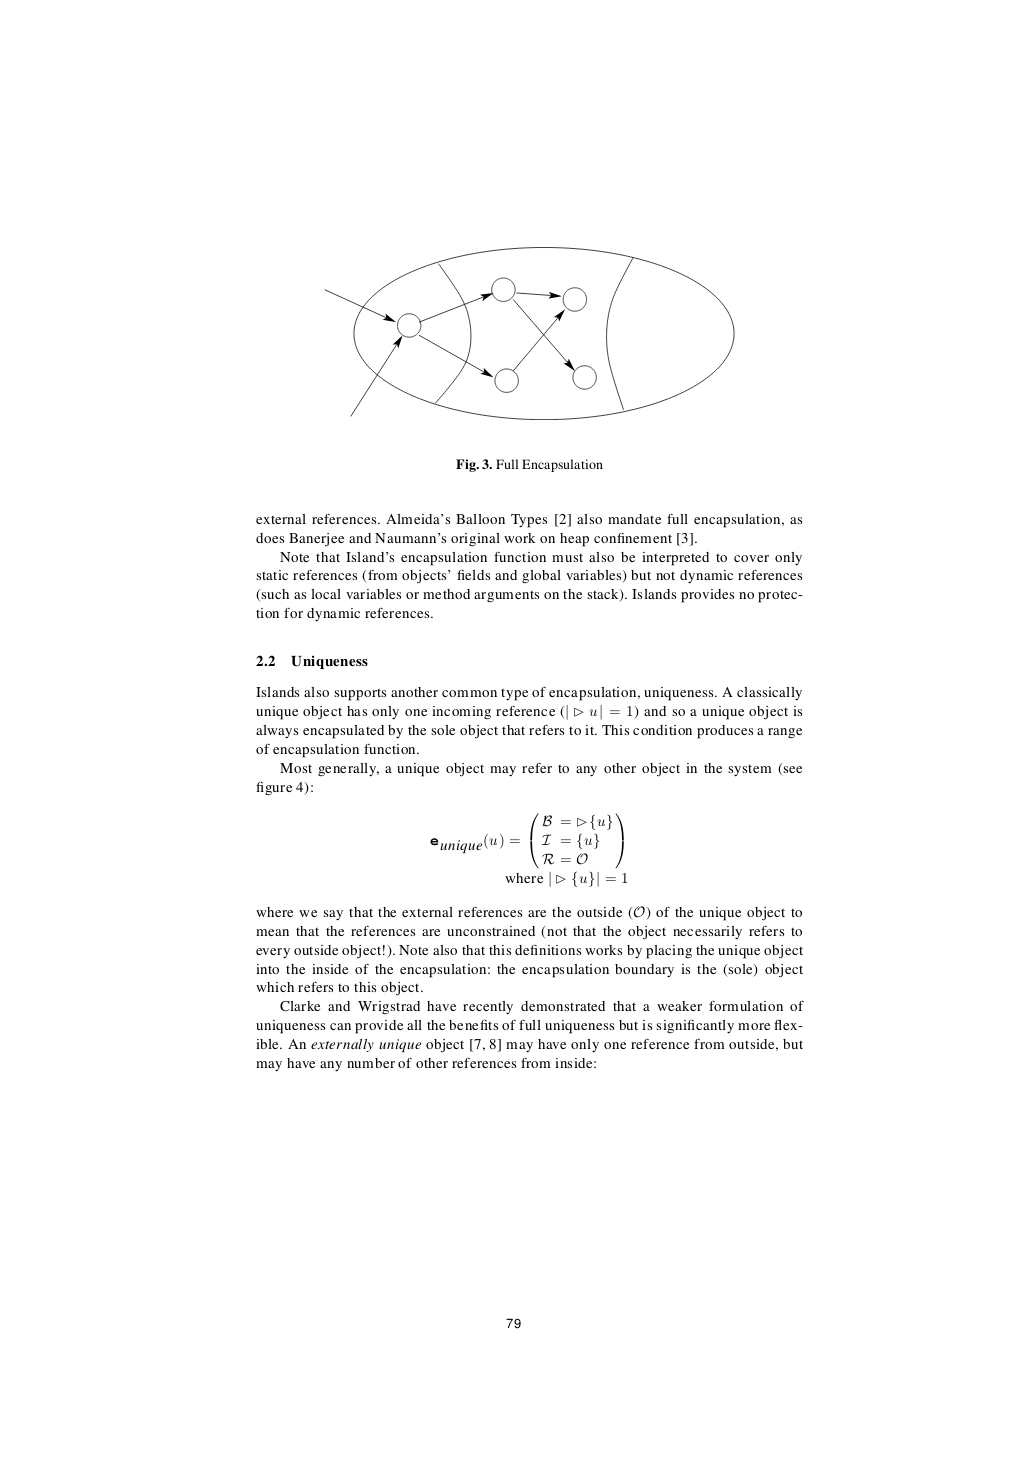figure: (324, 245, 734, 421)
formula: (430, 812, 627, 887)
